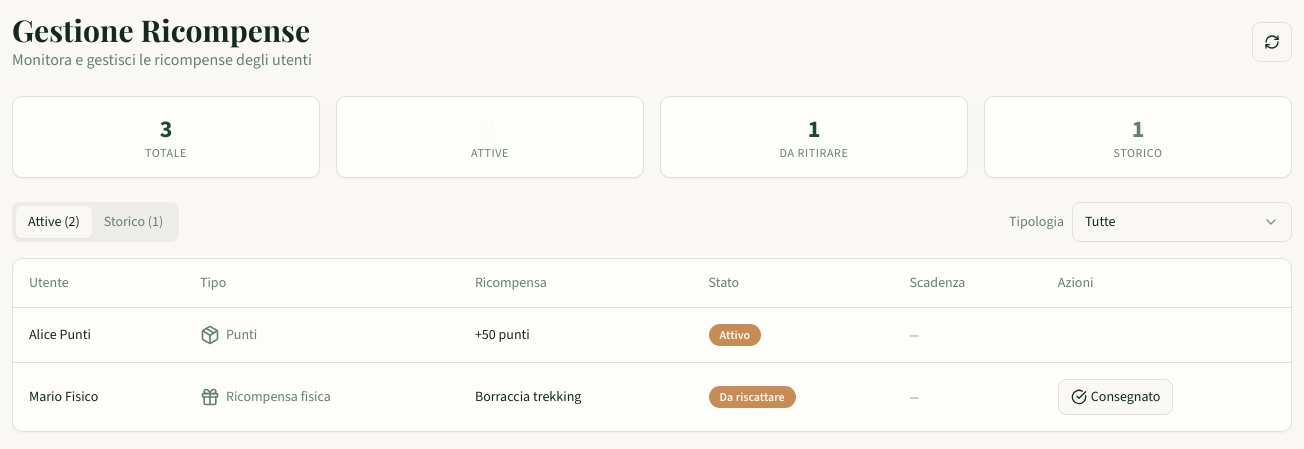
Test: RewardsAdminPage › filters active rewards by fixed reward type
Expected: the text "+50 punti" is shown, [459, 307, 693, 362]
Expected: the text "Borraccia trekking" is shown, [459, 362, 693, 430]
Press the mouse on the dropdown named "Tipologia ricompensa" at (1182, 222), box [1072, 202, 1292, 242]
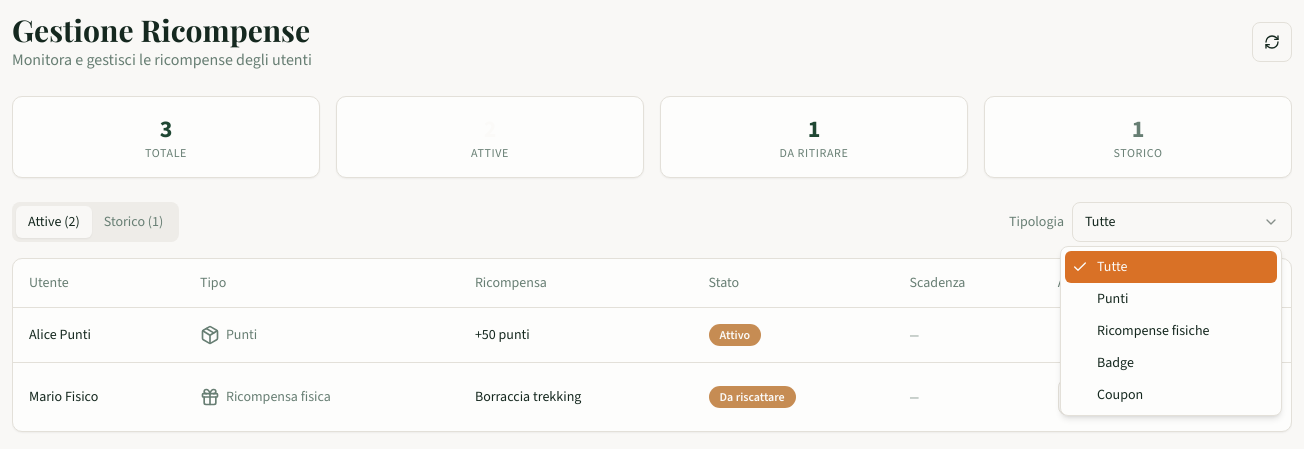
Click the option "Ricompense fisiche".
click(1153, 330)  # box [1097, 321, 1210, 340]
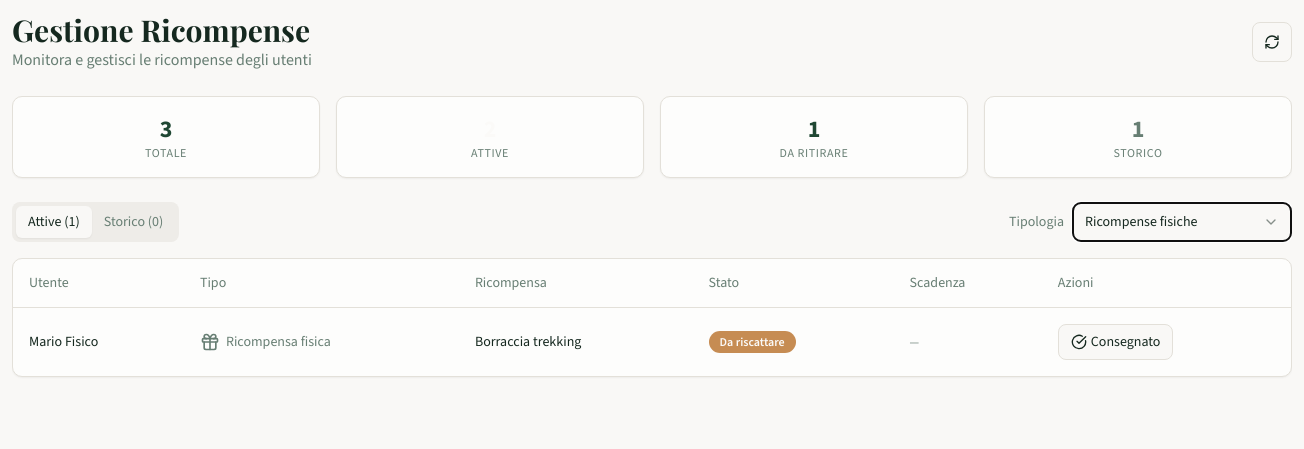
Result: the text "+50 punti" is gone
Result: the tab "Attive (1)" is shown at [16, 206, 92, 238]
Result: the tab "Storico (0)" is shown at [92, 206, 175, 238]
